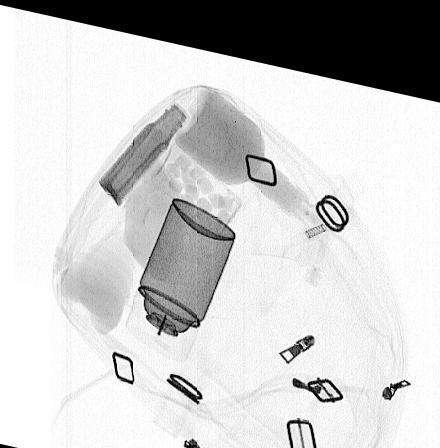Sprayer: (125, 186, 236, 354)
